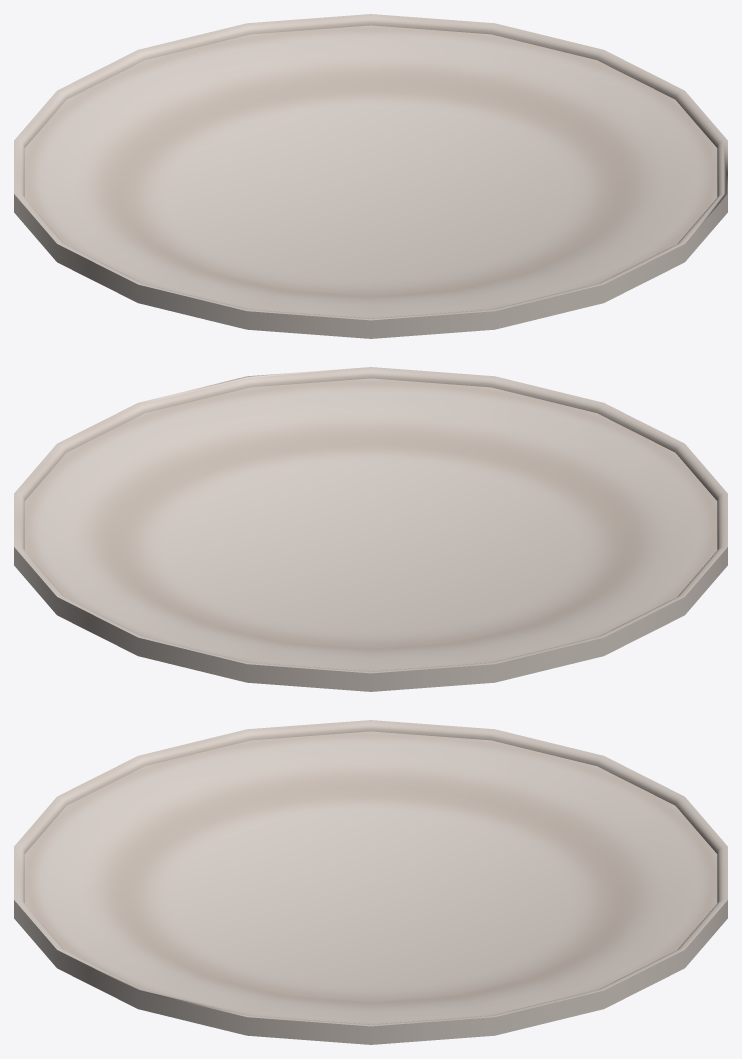
File: Kitchen_Plate.fbx
3 views of the same model, one above another, from view 1: azimuth 30°, elevation 25°; view 2: azimuth 150°, elevation 25°; view 3: azimuth 270°, elevation 25° (orthographic).
Visible parts, largest first — view 1: Plate015; view 2: Plate015; view 3: Plate015.
Boxes of the visible parts, x1,y1,x2,y2 form: Plate015: (14, 14, 727, 338); Plate015: (14, 367, 727, 691); Plate015: (14, 720, 727, 1044).
Bounding box in the file's own units: 291 × 24.73 × 287.
